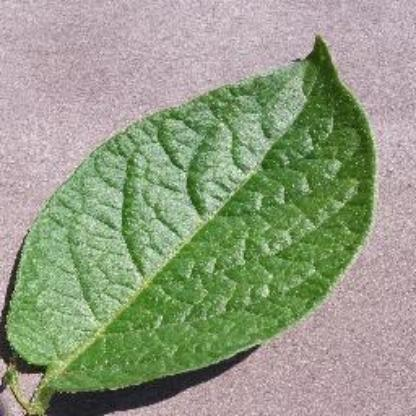Healthy-plant: (5, 36, 370, 404)
